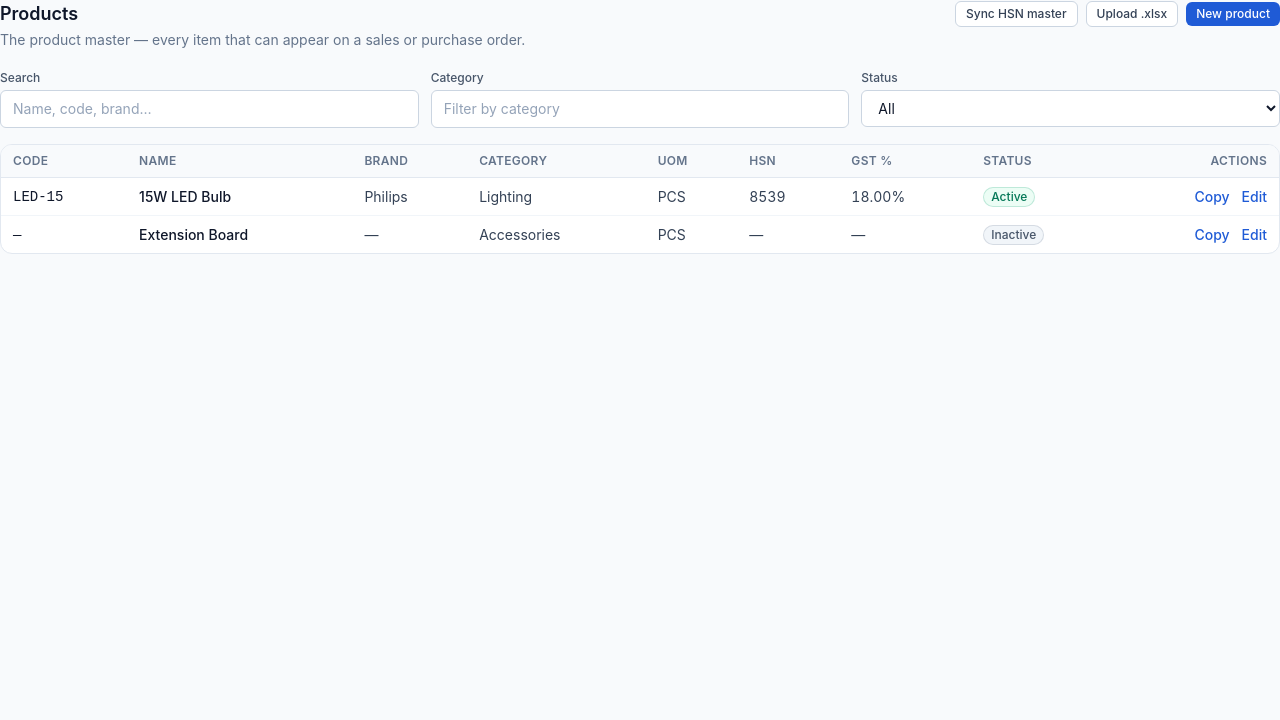
Test: ProductsPage › creates a product: opens the modal, submits, and POSTs the body
expect the text "15W LED Bulb" is shown: met, box [127,178,352,216]
Click the button "New product" at (1233, 14), box [1186,2,1279,26]
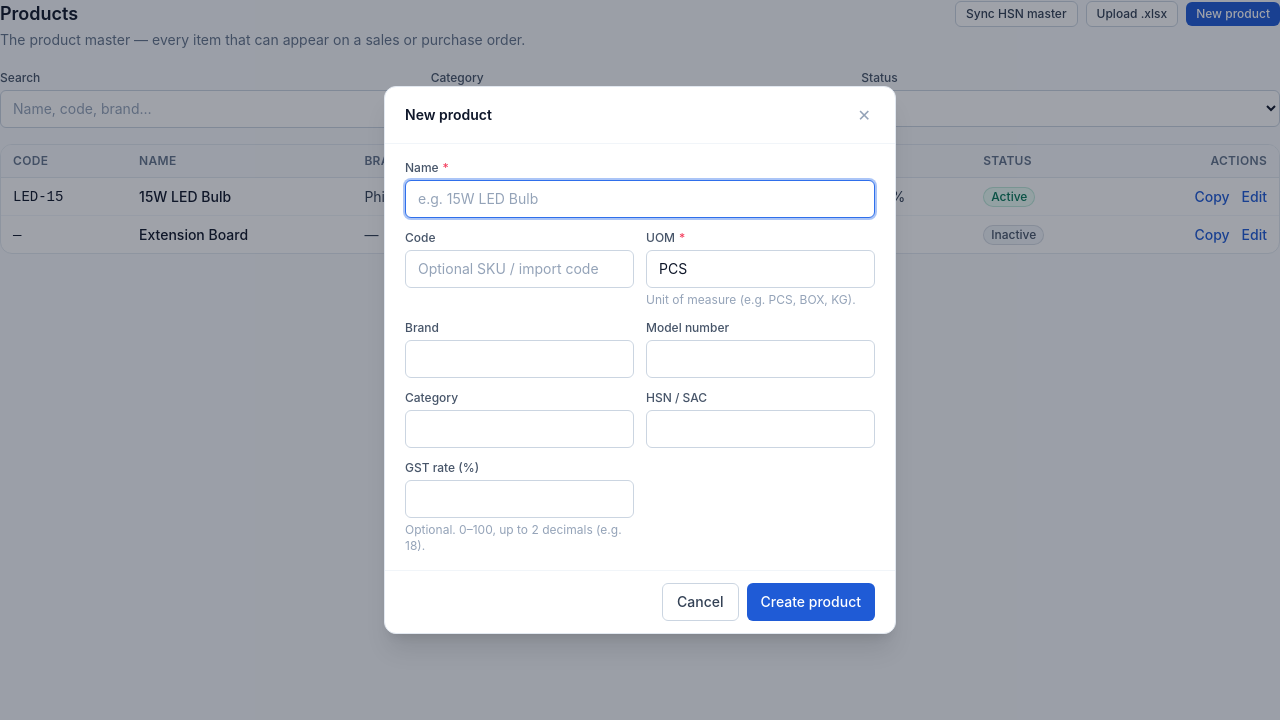
Type "Ceiling Fan" into the field labelled "Name *" at (640, 199), box [405,180,875,218]
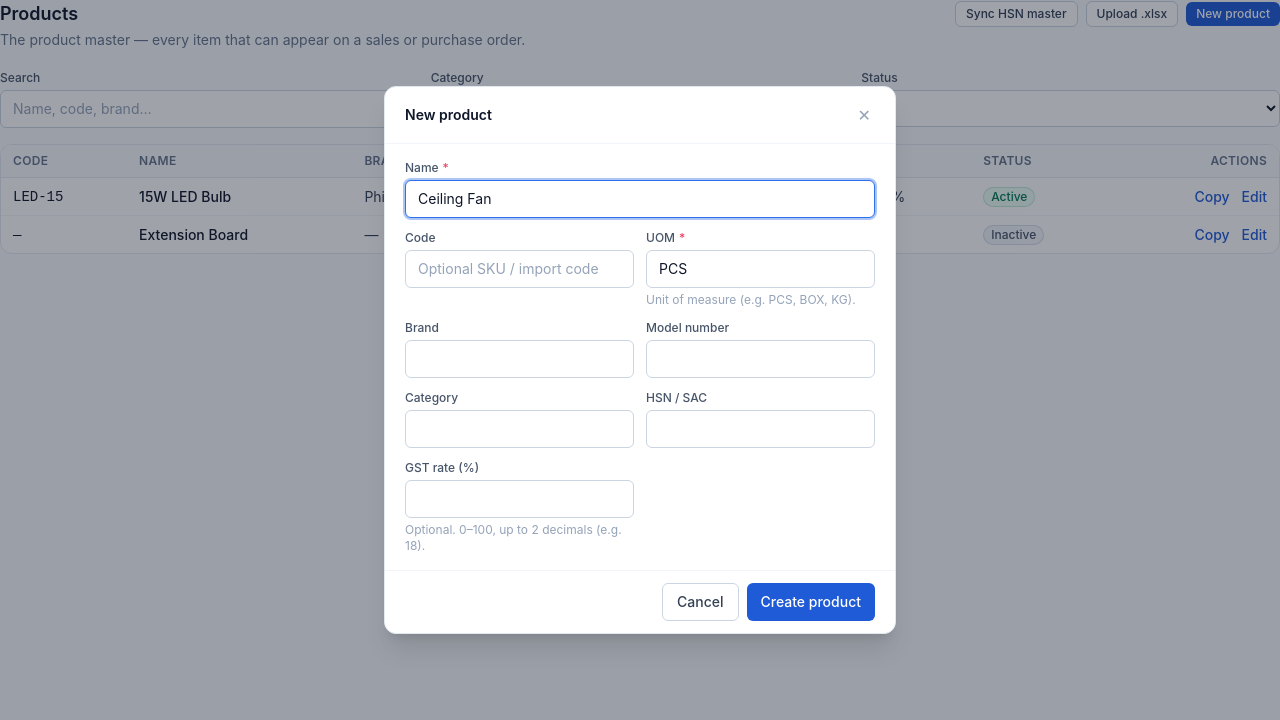
Click the button "Create product" at (811, 602), box [746,583,875,621]
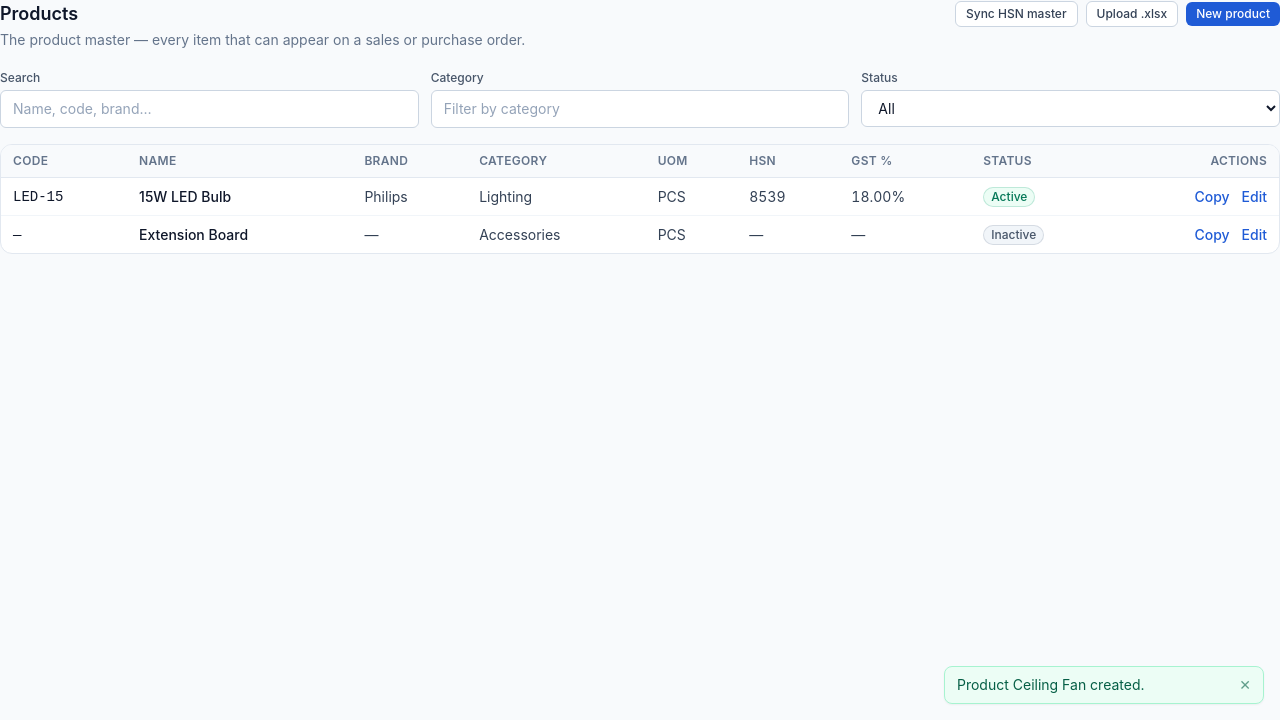
expect the dialog is gone: met
